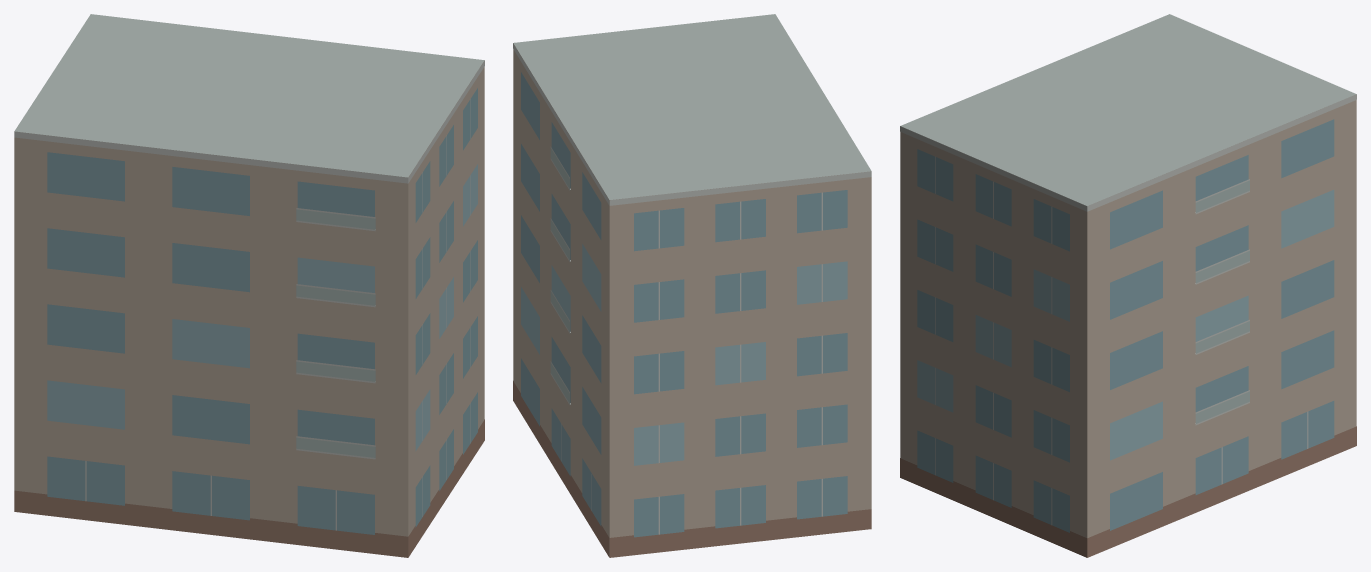
Rendered from survey-upis-32987179.glb.
The picture shows the model from 3 angles, left to right: view 1: azimuth 30°, elevation 25°; view 2: azimuth 150°, elevation 25°; view 3: azimuth 270°, elevation 25°; orthographic projection. The views are drawn at different scales.
Parts seen in each view (by area): view 1: survey-upis-32987179.tmp; view 2: survey-upis-32987179.tmp; view 3: survey-upis-32987179.tmp.
Boxes of the visible parts, x1=… form: survey-upis-32987179.tmp: x1=14, y1=14, x2=484, y2=557; survey-upis-32987179.tmp: x1=513, y1=14, x2=871, y2=557; survey-upis-32987179.tmp: x1=900, y1=14, x2=1356, y2=557.
Bounding box in the file's own units: 17.88 × 15.25 × 17.95.
